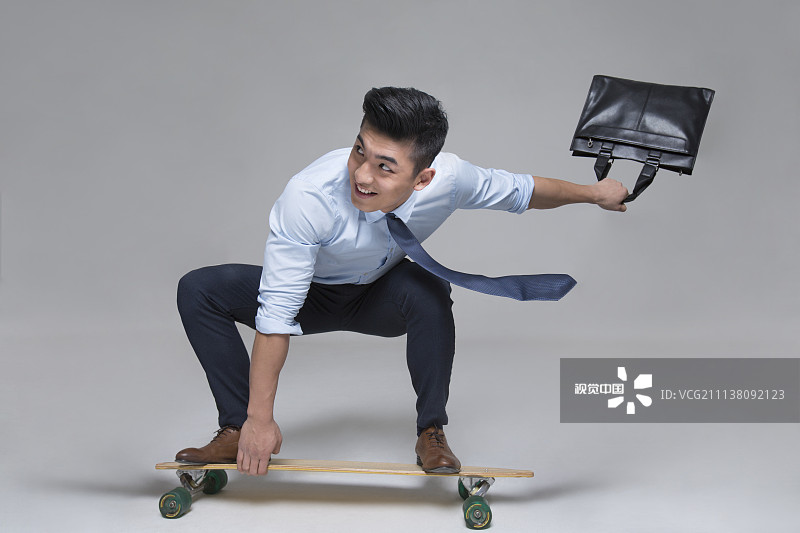no-phone: (226, 406, 295, 485), (590, 157, 639, 227)
